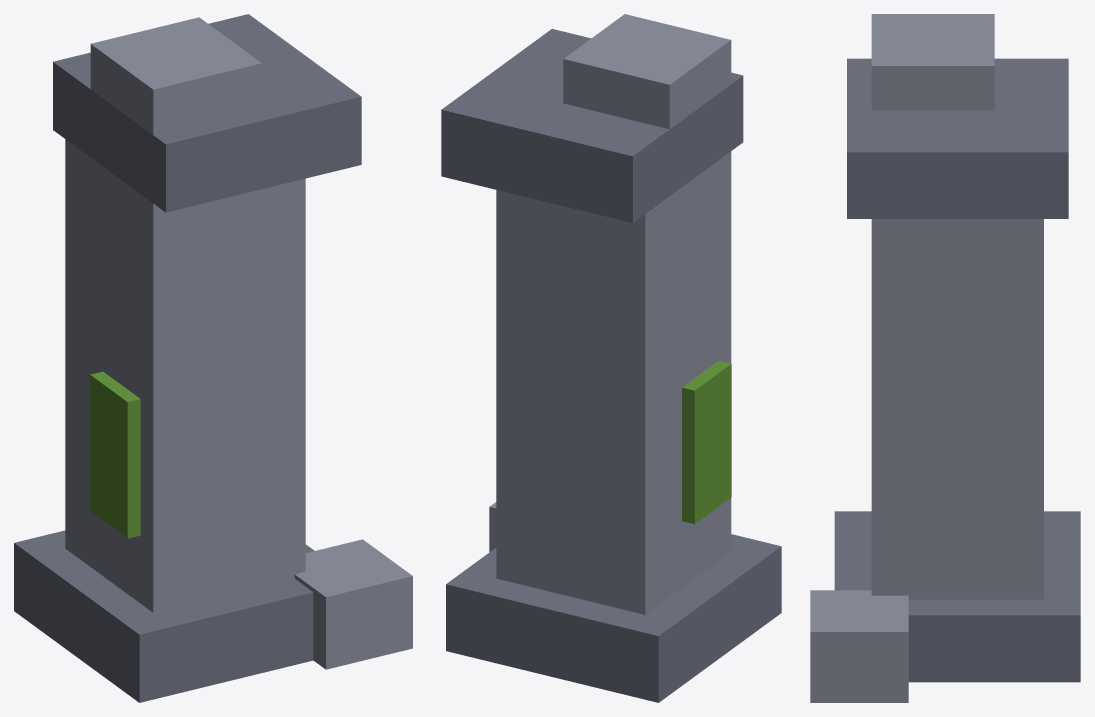
Rendered from RuinPillar.glb.
3 renders of one model, left to right at view 1: azimuth 30°, elevation 25°; view 2: azimuth 150°, elevation 25°; view 3: azimuth 270°, elevation 25°, orthographic. The views are drawn at different scales.
Visible parts, largest first — view 1: RuinPillar; view 2: RuinPillar; view 3: RuinPillar.
Boxes of the visible parts, bbox=[...] form: RuinPillar: bbox=[14, 14, 412, 702]; RuinPillar: bbox=[441, 14, 781, 702]; RuinPillar: bbox=[810, 14, 1080, 702].
Bounding box in the file's own units: 6 × 13 × 5.5.
1 material, 1 textured.
